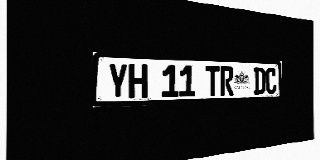1: (162, 65, 179, 98), (179, 65, 195, 97)
C: (265, 68, 276, 94)
D: (254, 67, 265, 95)
H: (129, 64, 147, 99)
R: (220, 66, 233, 96)
T: (206, 66, 220, 96)
Y: (108, 63, 128, 99)
